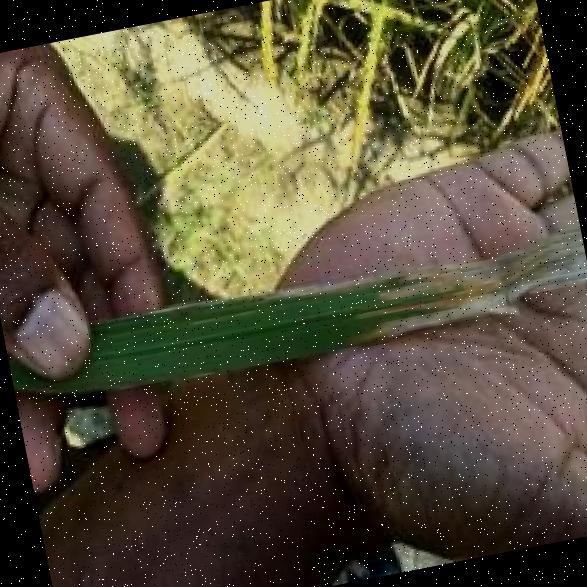Bacteria_Leaf_Blight: (154, 198, 584, 373)
